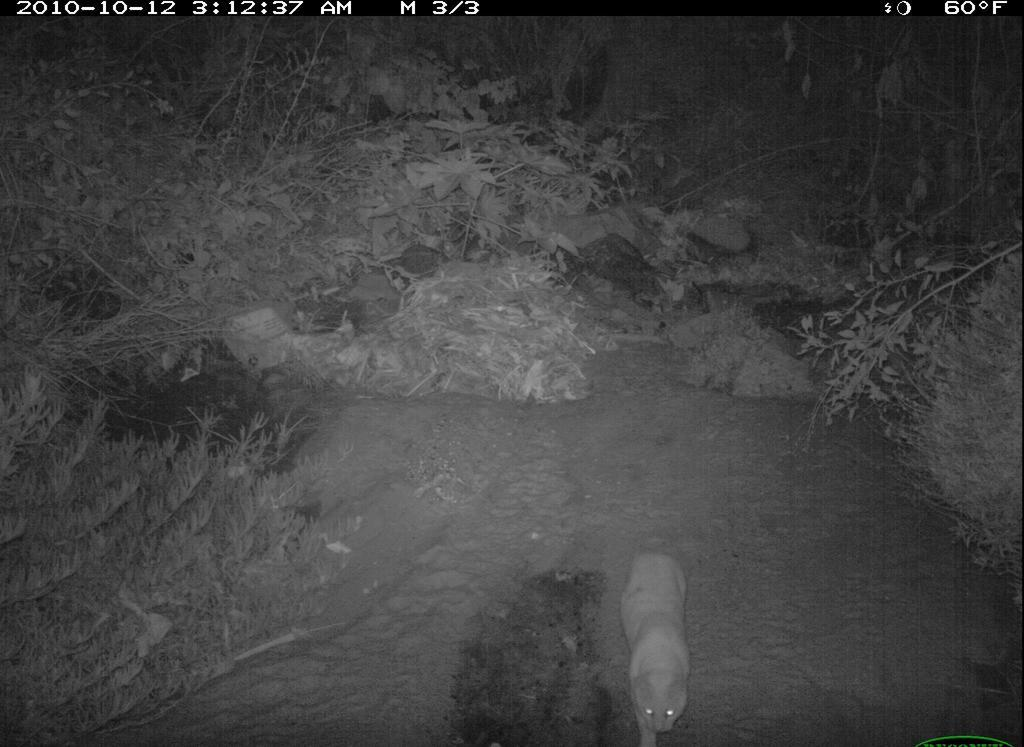cat: (616, 534, 701, 747)
